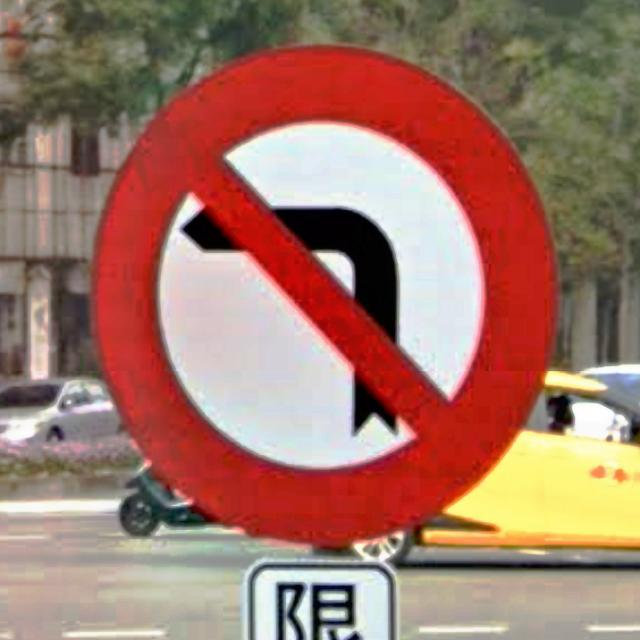noturnleft: (90, 44, 559, 549)
